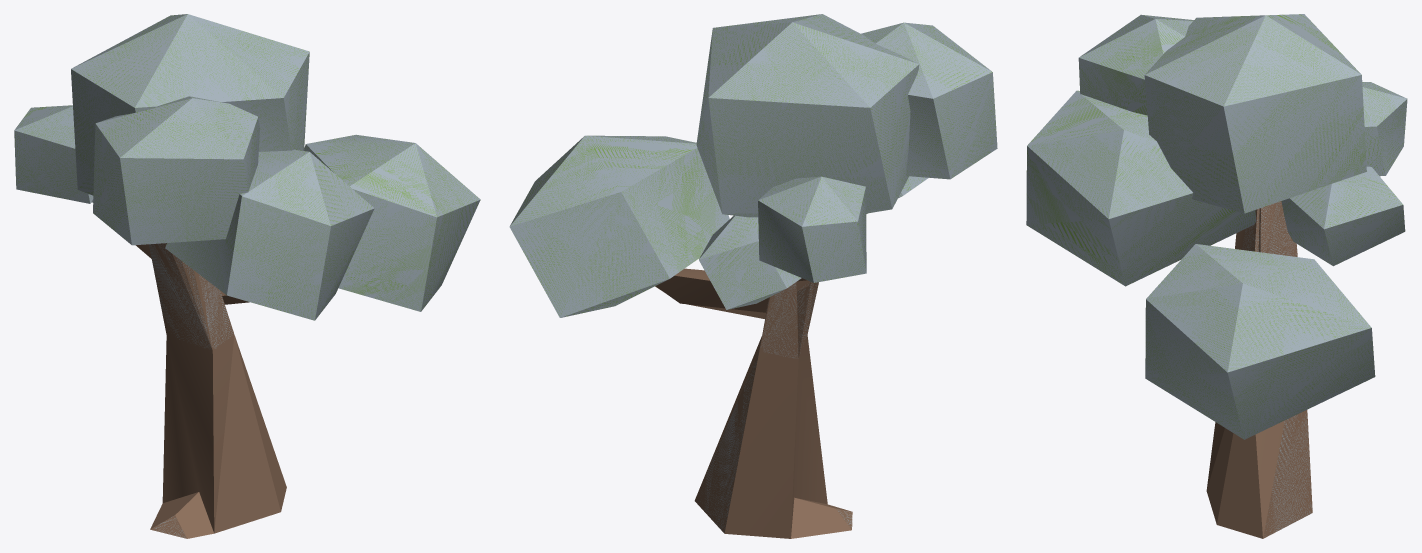
File: Tree_Gum_02.fbx
3 renders of one model, left to right at view 1: azimuth 30°, elevation 25°; view 2: azimuth 150°, elevation 25°; view 3: azimuth 270°, elevation 25°, orthographic. The views are drawn at different scales.
Visible parts, largest first — view 1: Model; view 2: Model; view 3: Model.
Boxes of the visible parts, left/top/right/bottom form: Model: left=14, top=14, right=480, bottom=538; Model: left=509, top=14, right=997, bottom=538; Model: left=1026, top=14, right=1407, bottom=538.
Bounding box in the file's own units: 613 × 716 × 517.
